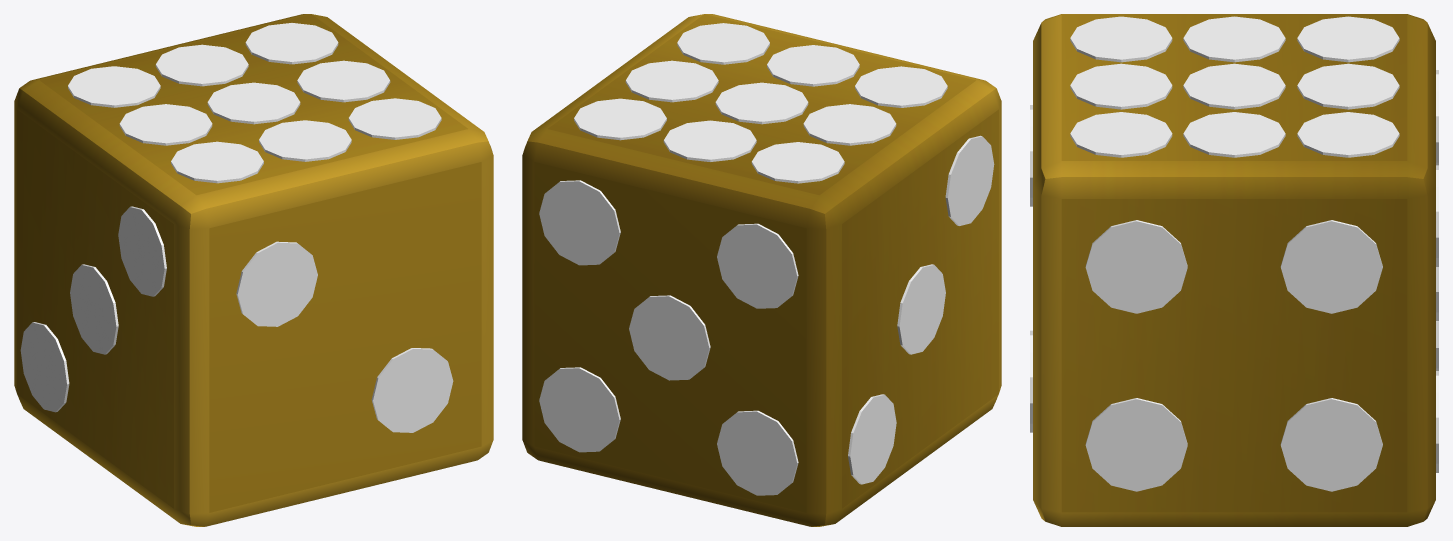
File: Dice_06.fbx
3 renders of one model, left to right at view 1: azimuth 30°, elevation 25°; view 2: azimuth 150°, elevation 25°; view 3: azimuth 270°, elevation 25°, orthographic. The views are drawn at different scales.
Visible parts, largest first — view 1: pCube13; view 2: pCube13; view 3: pCube13.
Part boxes in pixels (x1,y1,x2,y2): pCube13: [14, 14, 493, 526]; pCube13: [522, 14, 1001, 526]; pCube13: [1030, 14, 1438, 526].
Size of the model in its own units: 2.03 by 2.03 by 2.03.
